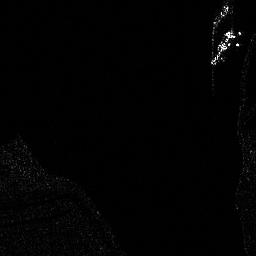ship: (207, 29, 235, 67), (211, 3, 231, 29)
